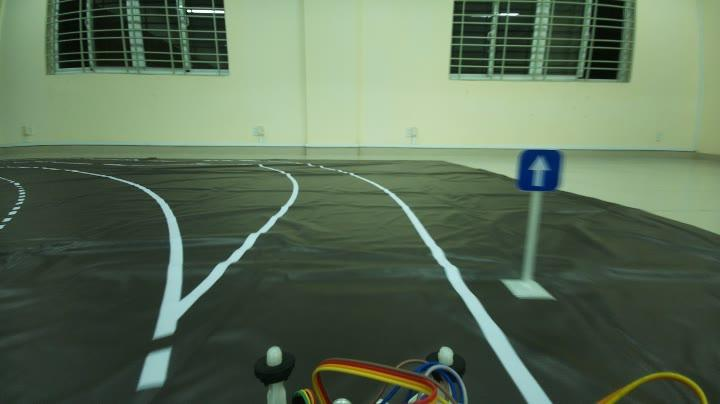onewayroad: (510, 145, 566, 194)
